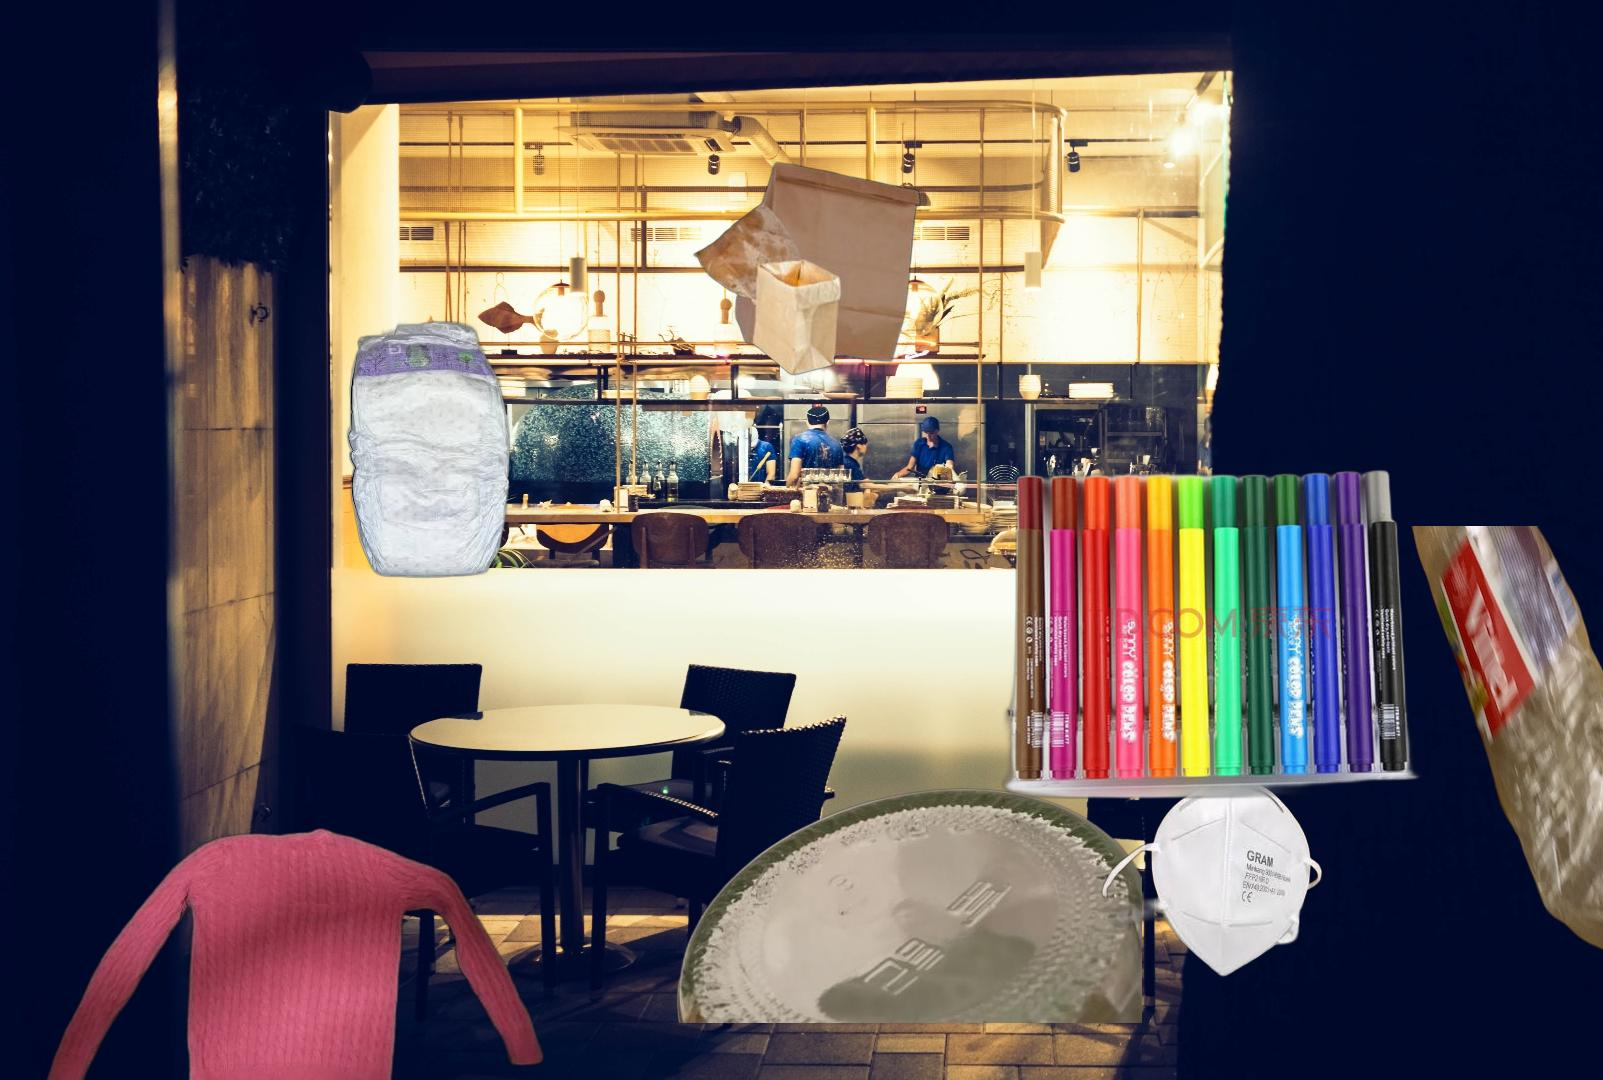clothes: (39, 824, 548, 1080)
glass: (673, 785, 1143, 1023)
paper-bag: (689, 160, 924, 378)
penholder: (999, 466, 1427, 802)
plastic-bottles: (1409, 526, 1603, 1000)
trash: (1099, 771, 1325, 990), (342, 318, 512, 581)
